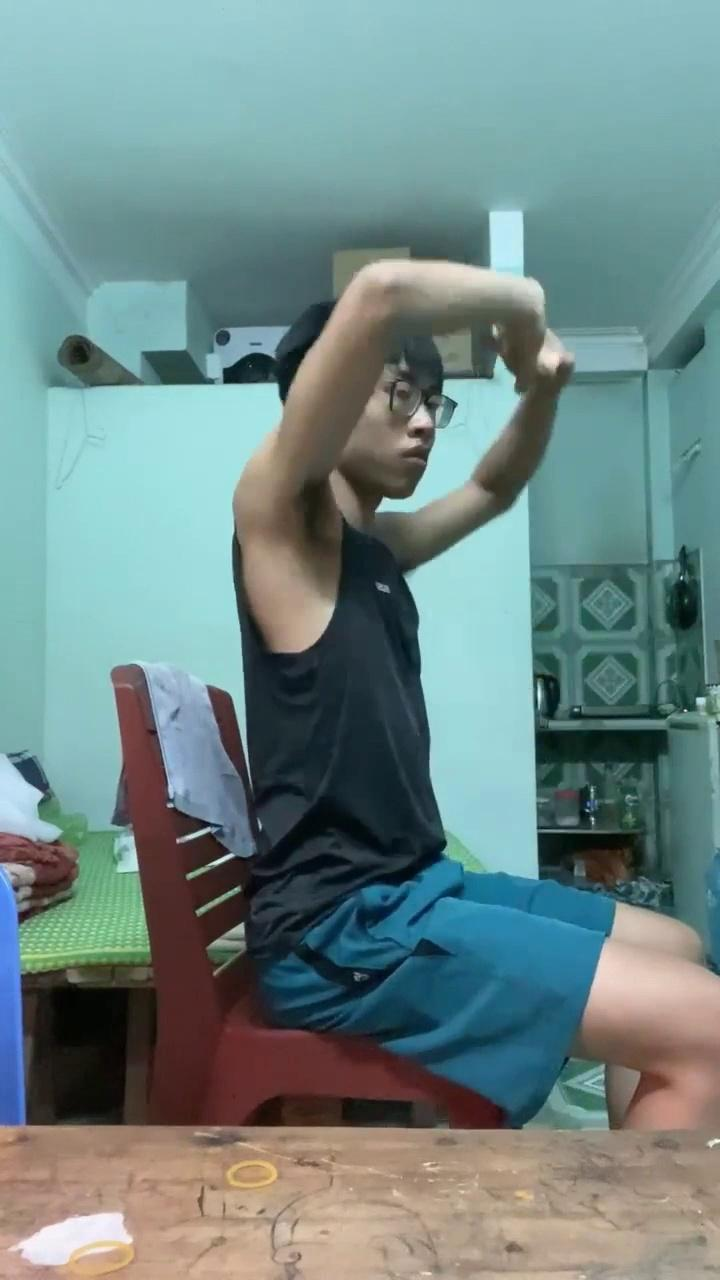GoodPosture: (233, 214, 719, 1129)
